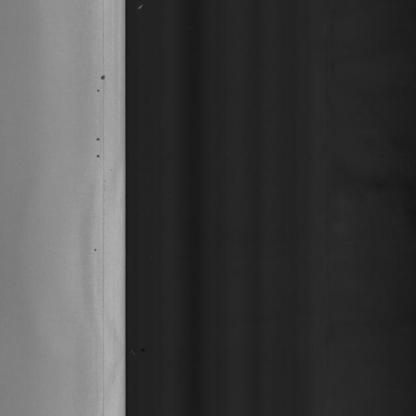oil_spot: (92, 64, 113, 103), (93, 132, 104, 166)
